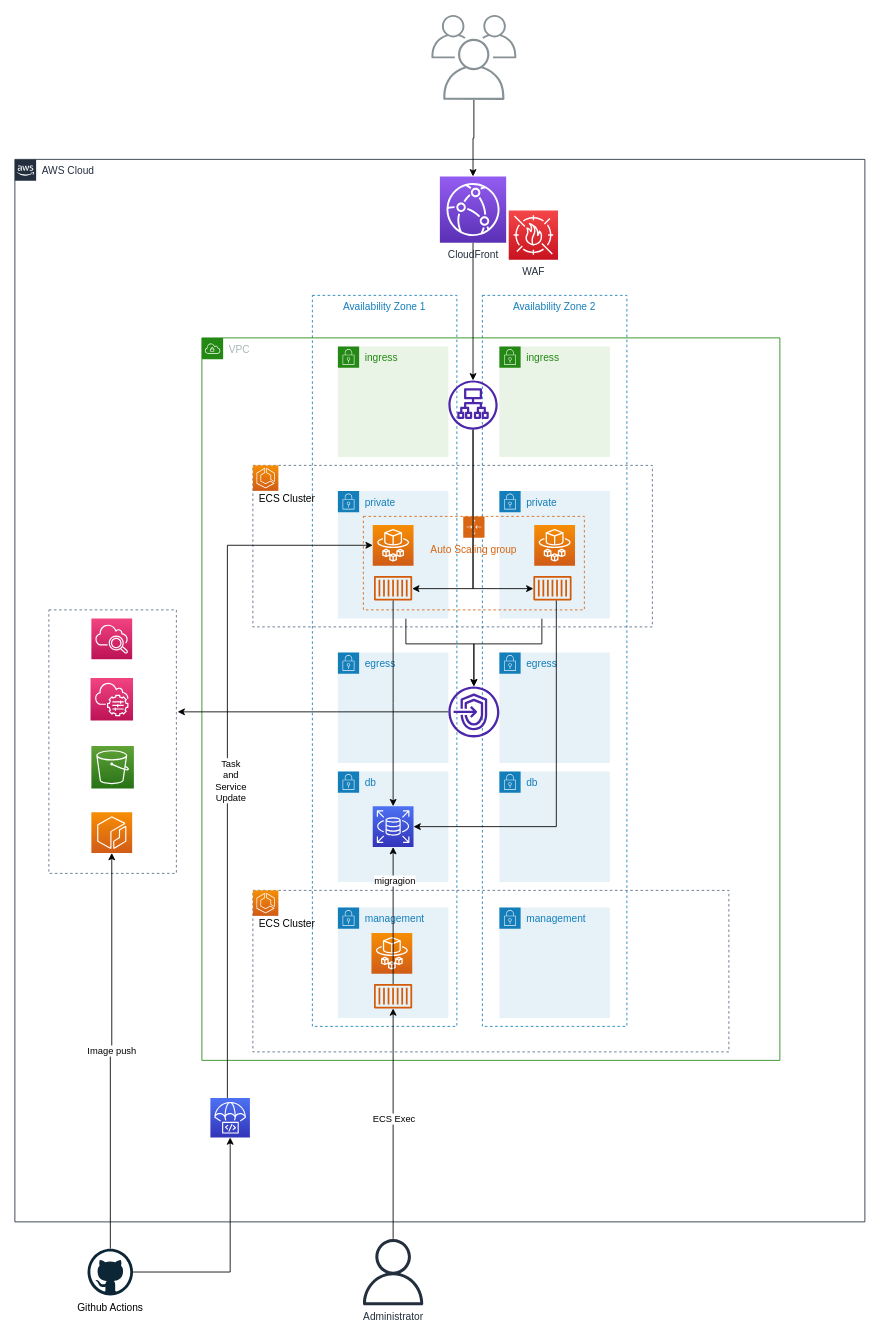
Image size: 880x1337. Some labels were removed from this diagram. The shapes that lost their labels are listed below. From the top down, each one's centre as x and y in pixels, then its label:
At pixel 473 56: "users".
At pixel 472 404: "ALB".
At pixel 111 638: "CloudWatch".
At pixel 111 698: "Systems Manager".
At pixel 473 711: "VPC endpoints".
At pixel 112 766: "S3".
At pixel 111 832: "ECR".
At pixel 393 826: "RDS".
At pixel 230 1117: "Code Deploy".
